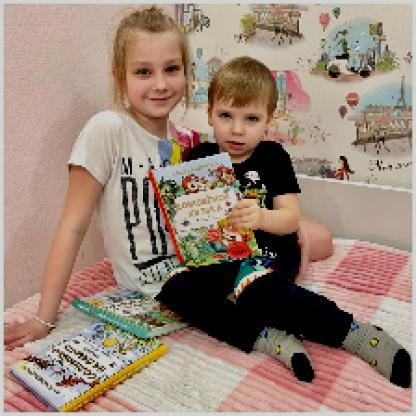child: (159, 58, 414, 391)
